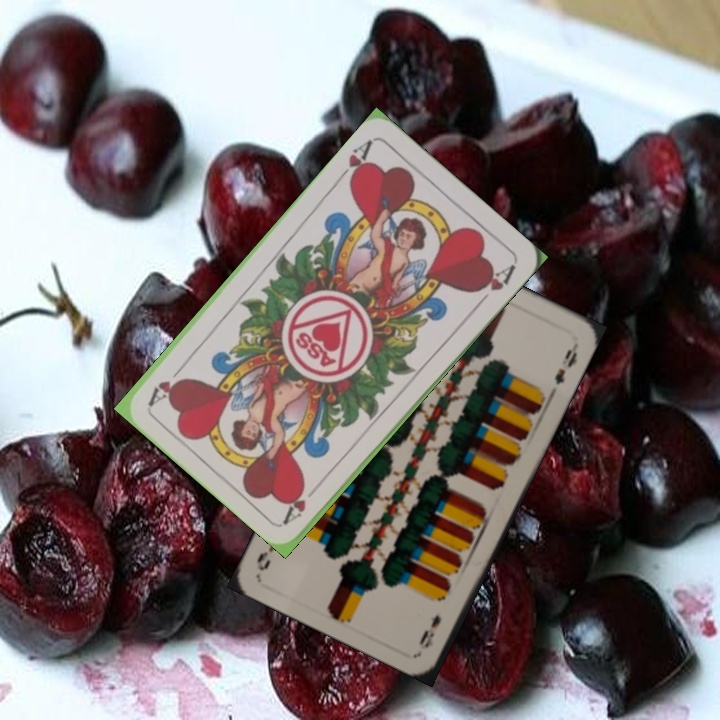E9: (415, 610, 444, 651)
HA: (332, 135, 376, 188), (280, 478, 326, 526)
